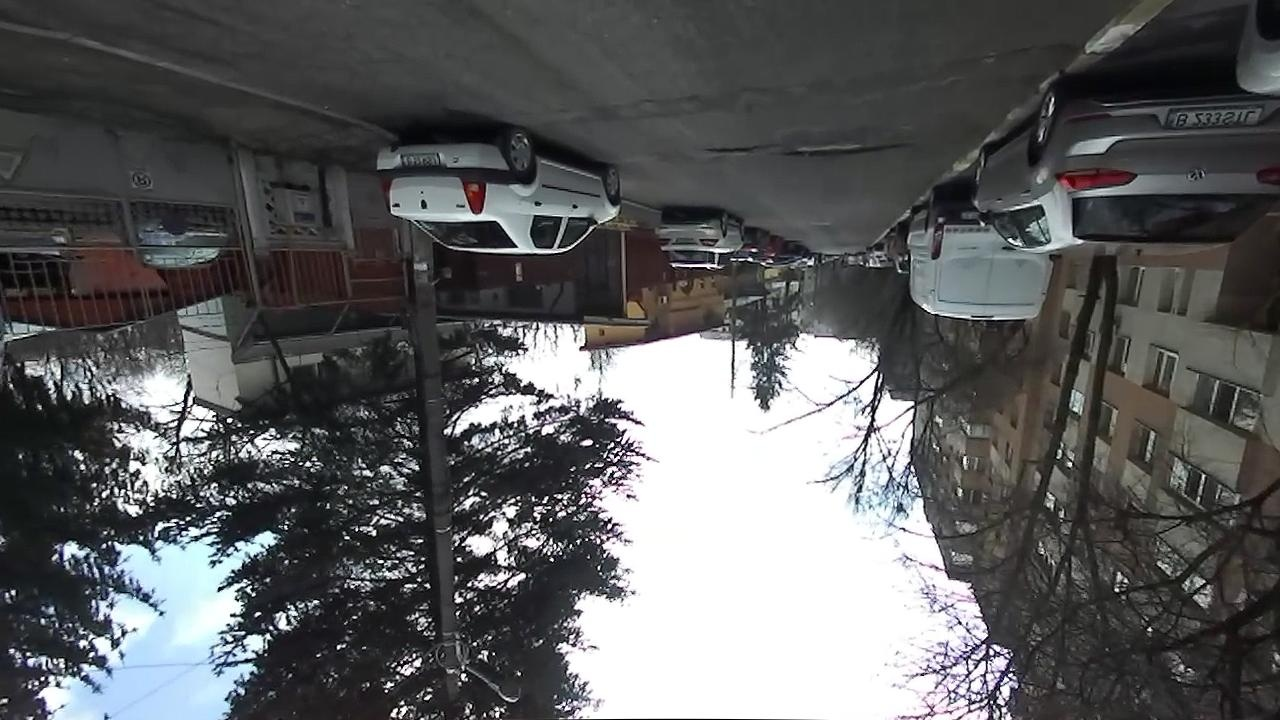pothole: (783, 140, 912, 160), (702, 144, 766, 158)
